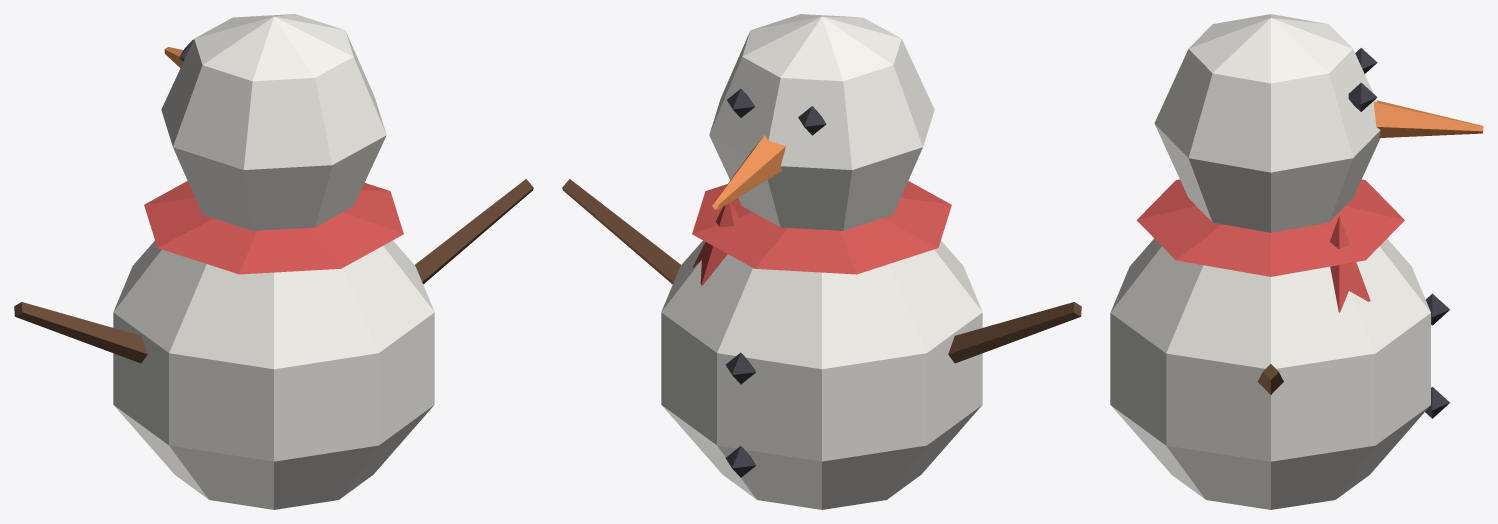
The model's file is deco_mini_snowman.obj.
3 views of the same model, side by side, from view 1: azimuth 30°, elevation 25°; view 2: azimuth 150°, elevation 25°; view 3: azimuth 270°, elevation 25° (orthographic).
Parts seen in each view (by area): view 1: deco_mini_snowman; view 2: deco_mini_snowman; view 3: deco_mini_snowman.
Part boxes in pixels (x1,y1,x2,y2): deco_mini_snowman: [14, 14, 533, 509]; deco_mini_snowman: [562, 14, 1081, 509]; deco_mini_snowman: [1110, 14, 1483, 509].
Size of the model in its own units: 0.0436 by 0.0385 by 0.0272.
Materials: 1 (1 with a texture image).
